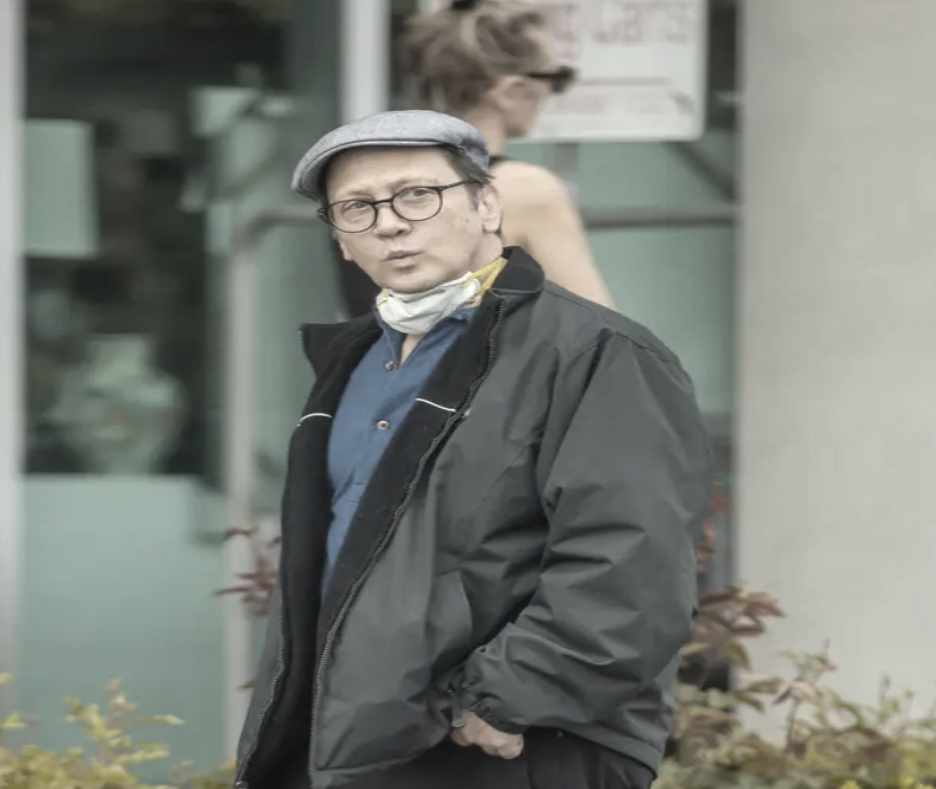mask_weared_incorrect: (289, 104, 526, 339)
